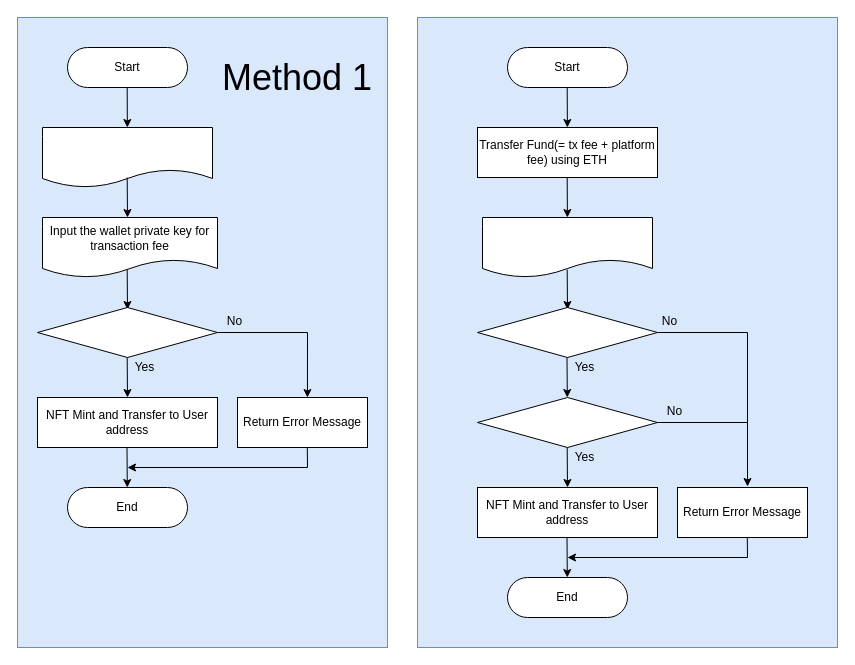
Image size: 855x665. Some labels were removed from this diagram. The centre of each missing label's shape, as x and y in pixels:
Input the Token Name, Symbol, Metadata: (127,157)
Input the Token Name, Symbol, Metadata, Wallet Address(must same with above one): (567,247)
Tx fee is enough?: (567,422)
Wallet Balance is enough?: (127,332)
Wallet Exist?: (567,332)
